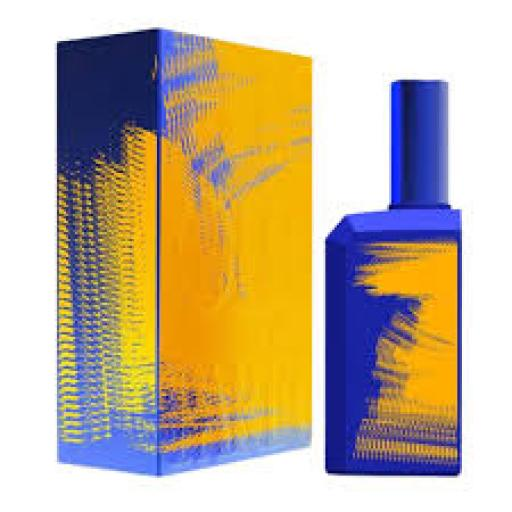blue-bottle: (325, 82, 460, 473)
